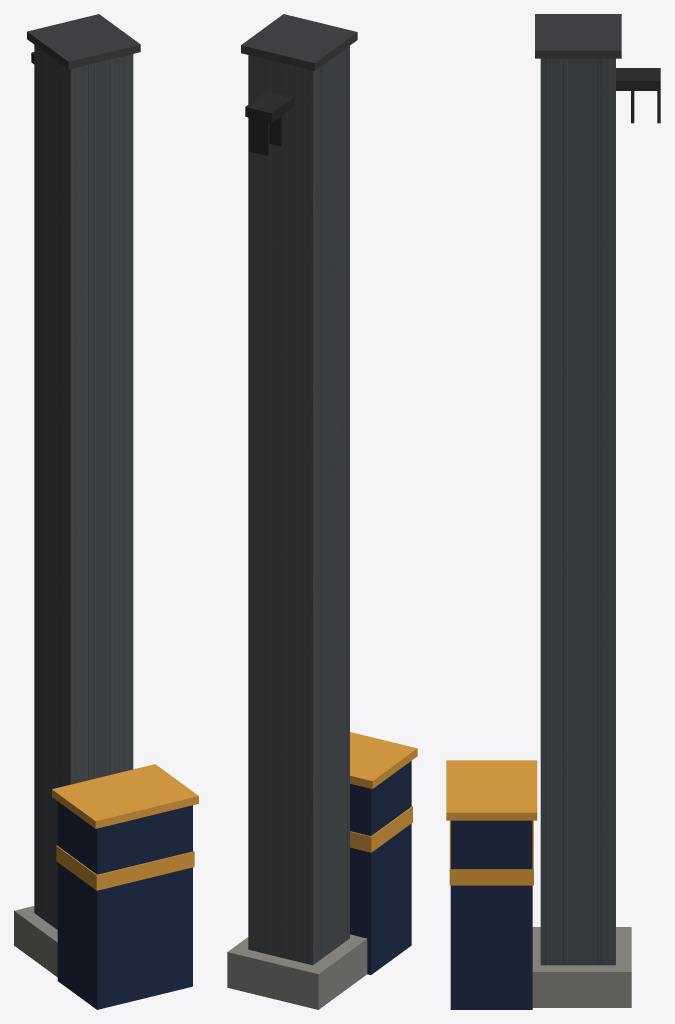
Rendered from MinidoracatKnoxPass_slidemotor2_A.glb.
3 views of the same model, side by side, from view 1: azimuth 30°, elevation 25°; view 2: azimuth 150°, elevation 25°; view 3: azimuth 270°, elevation 25° (orthographic). The views are drawn at different scales.
Visible parts, largest first — view 1: MinidoracatKnoxPass_slidemotor2_A; view 2: MinidoracatKnoxPass_slidemotor2_A; view 3: MinidoracatKnoxPass_slidemotor2_A.
Boxes of the visible parts, x1=… form: MinidoracatKnoxPass_slidemotor2_A: x1=14, y1=14, x2=198, y2=1009; MinidoracatKnoxPass_slidemotor2_A: x1=227, y1=14, x2=417, y2=1009; MinidoracatKnoxPass_slidemotor2_A: x1=446, y1=14, x2=660, y2=1009.
Size of the model in its own units: 0.56 by 4.74 by 0.967.
1 material, 1 textured.
